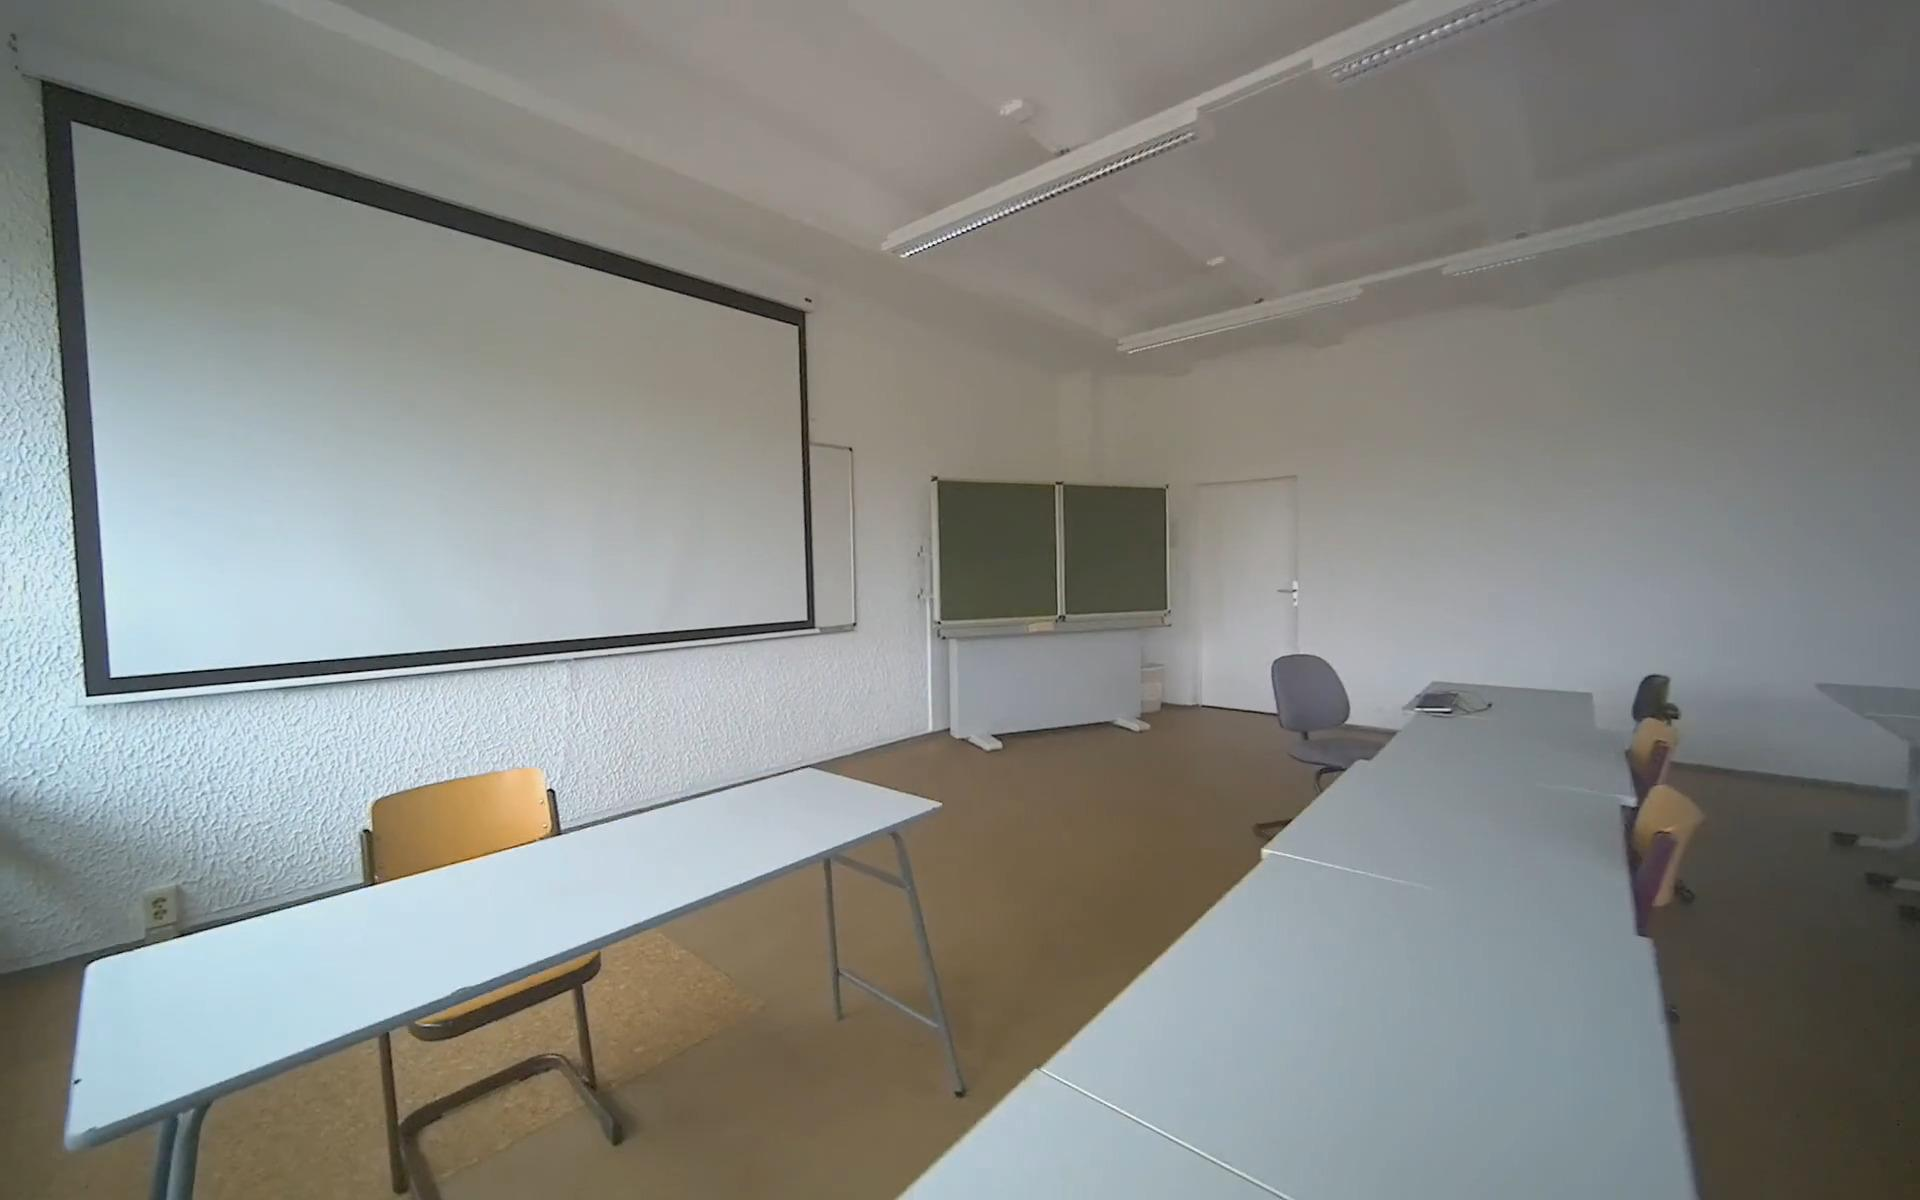chair: (1427, 782, 1707, 1200), (352, 760, 615, 1200), (1493, 712, 1685, 977), (1257, 653, 1405, 915), (1515, 667, 1675, 908)
doors: (1183, 473, 1303, 730)
light: (1440, 143, 1920, 282), (883, 100, 1207, 262), (1317, 0, 1557, 98), (1117, 280, 1358, 360)
